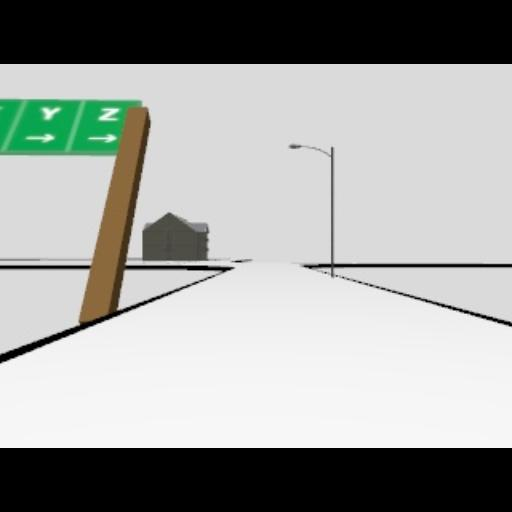Right: (24, 133, 56, 143), (87, 133, 117, 143)
Y: (40, 106, 60, 120)
Z: (96, 106, 120, 120)
